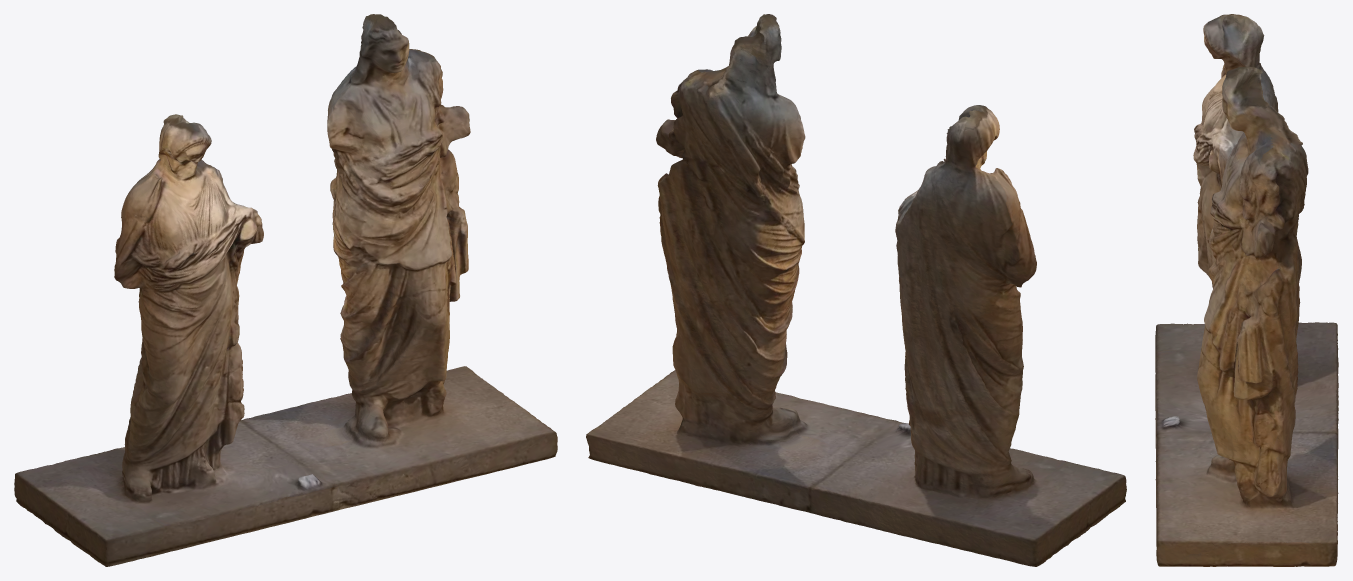
File: preview.glb
The picture shows the model from 3 angles, left to right: view 1: azimuth 30°, elevation 25°; view 2: azimuth 150°, elevation 25°; view 3: azimuth 270°, elevation 25°; orthographic projection.
Visible parts, largest first — view 1: Object_2; view 2: Object_2; view 3: Object_2.
Part boxes in pixels (x1,y1,x2,y2): Object_2: [14, 14, 557, 566]; Object_2: [586, 14, 1126, 566]; Object_2: [1155, 14, 1338, 566].
Size of the model in its own units: 8.79 by 8.18 by 3.12.
Materials: 1 (1 with a texture image).
